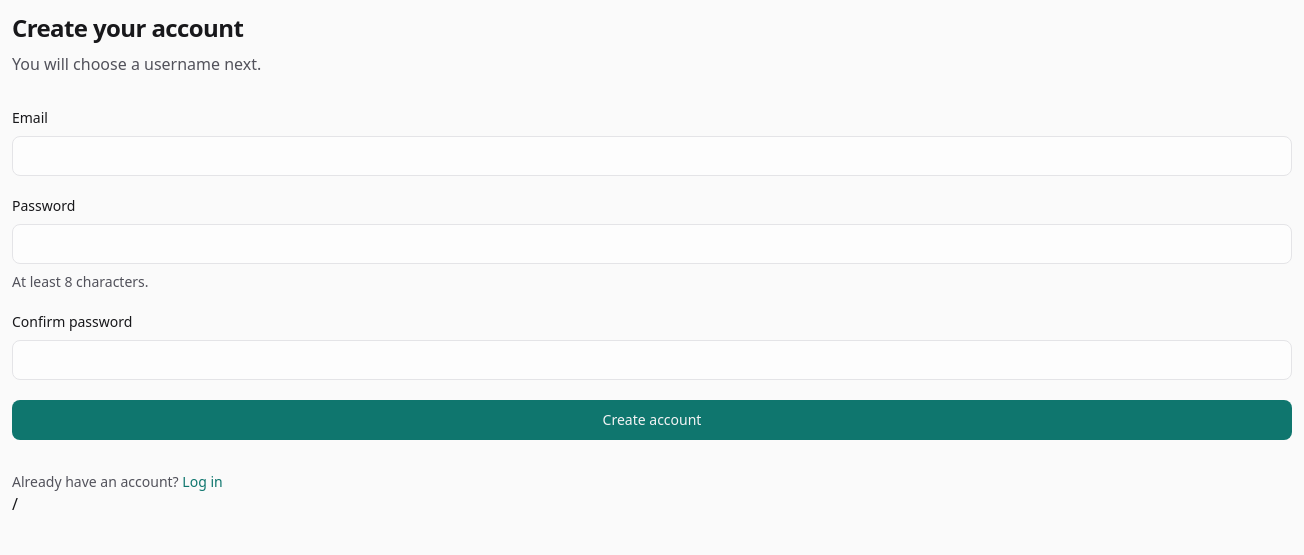
it: Register › checks password length and confirmation
In the field labelled "Email": (652, 156) x1=12 y1=136 x2=1292 y2=176, type "maya@example.test"
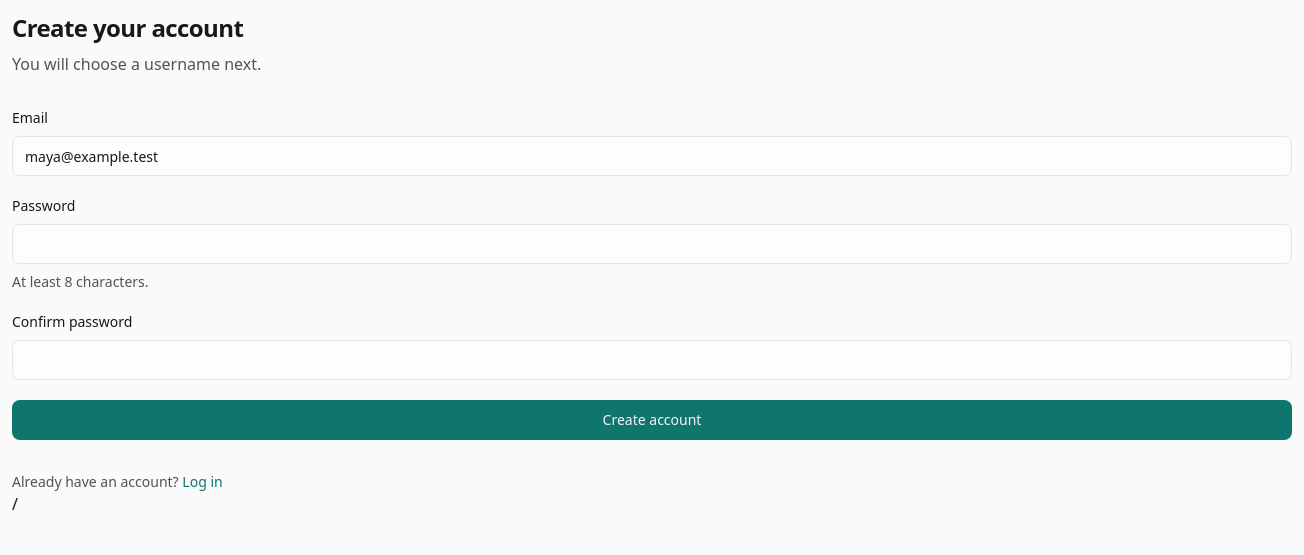
In the password field labelled "Password": (652, 244) x1=12 y1=224 x2=1292 y2=264, type "short"
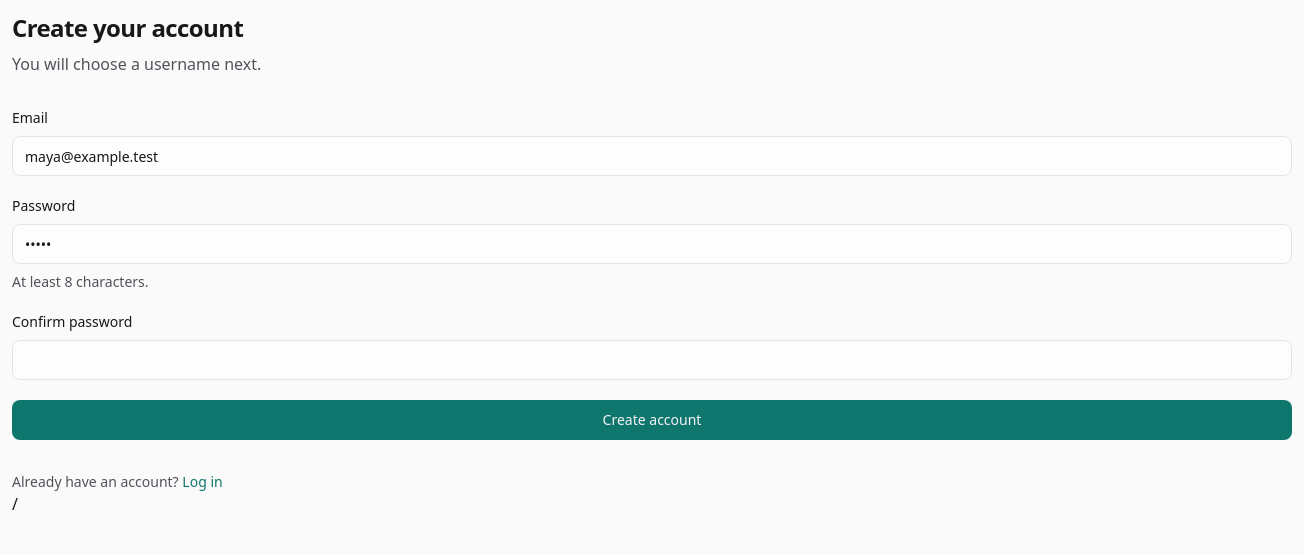
In the password field labelled "Confirm password": (652, 360) x1=12 y1=340 x2=1292 y2=380, type "other"
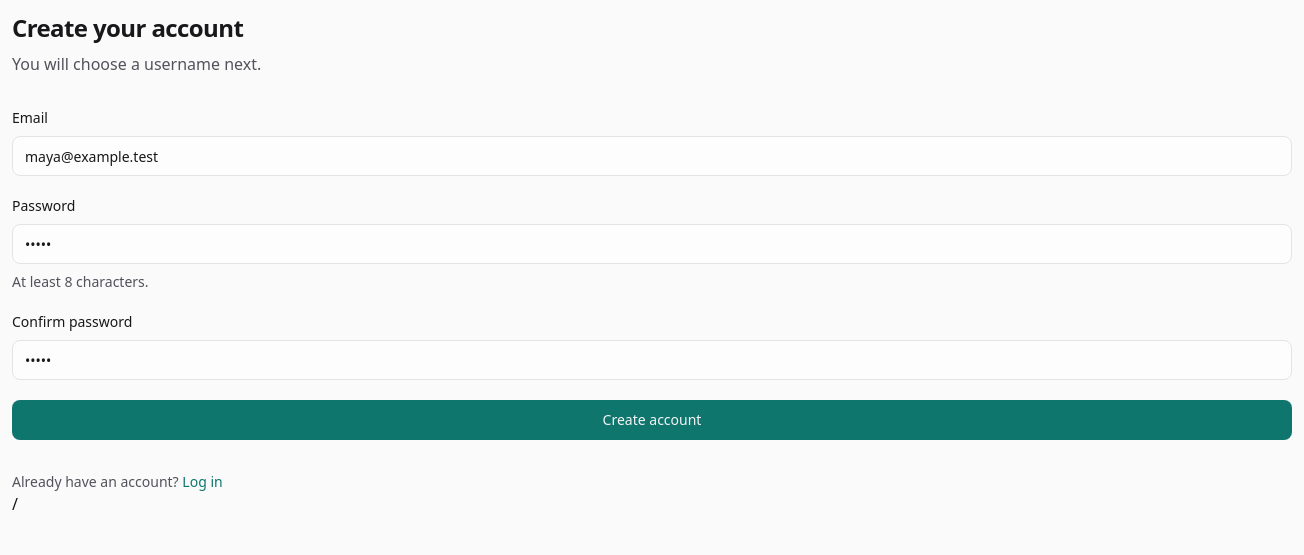
Click the button "Create account": (652, 420) x1=12 y1=400 x2=1292 y2=440
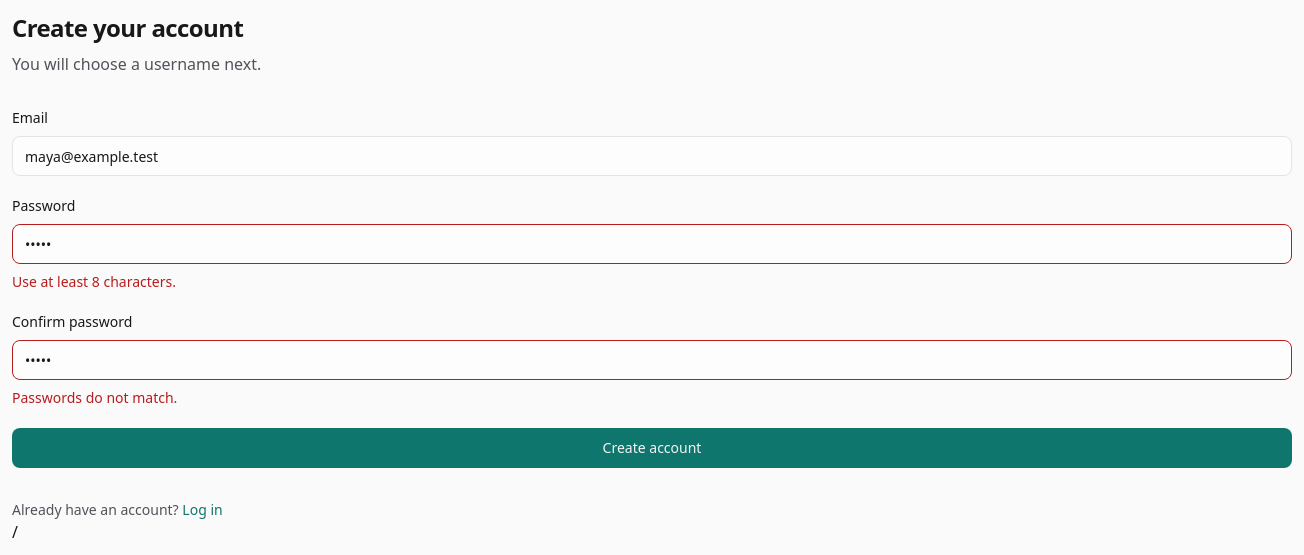
Expected: the text "Use at least 8 characters." is shown, x1=12 y1=272 x2=176 y2=291
Expected: the text "Passwords do not match." is shown, x1=12 y1=388 x2=177 y2=407
